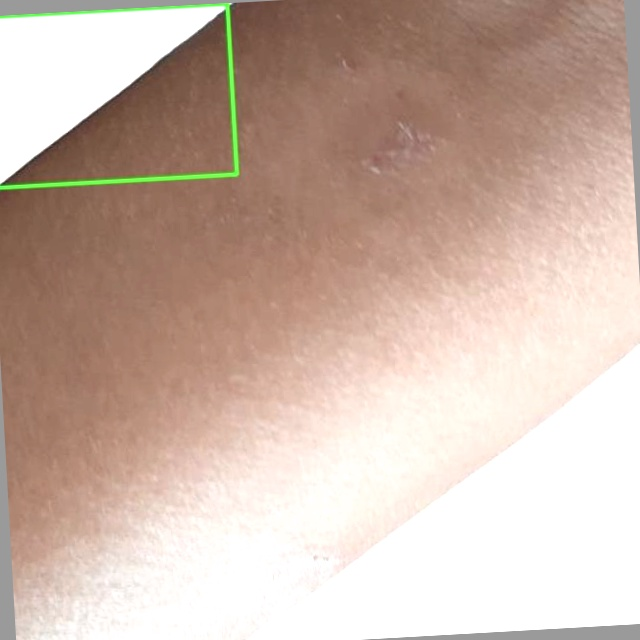Tinea Corporis: (0, 4, 237, 187)
